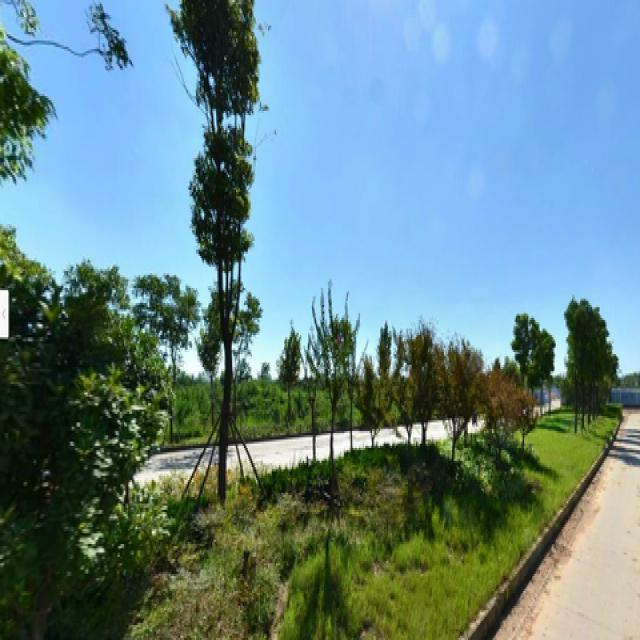cinn: (188, 13, 268, 467)
